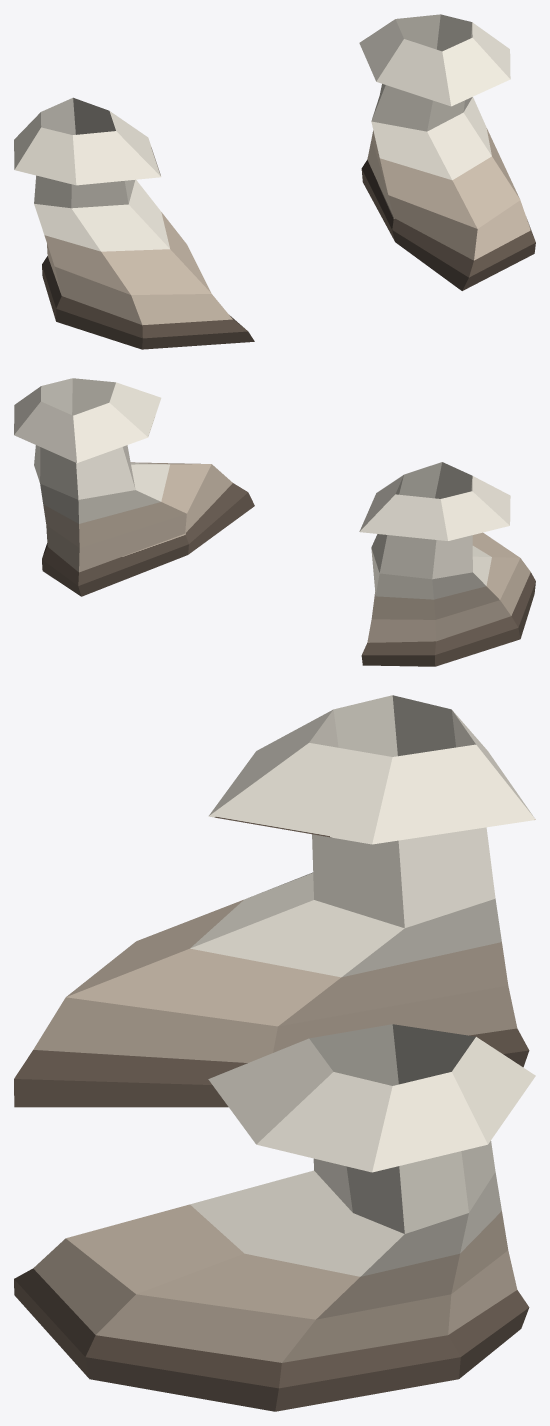
File: ShoesWithFSocks.fbx
3 views of the same model, one above another, from view 1: azimuth 30°, elevation 25°; view 2: azimuth 150°, elevation 25°; view 3: azimuth 270°, elevation 25° (orthographic). The views are drawn at different scales.
Parts seen in each view (by area): view 1: ShoesWithFrillySocks; view 2: ShoesWithFrillySocks; view 3: ShoesWithFrillySocks.
Boxes of the visible parts, x1,y1,x2,y2 form: ShoesWithFrillySocks: [14, 14, 535, 349]; ShoesWithFrillySocks: [14, 378, 535, 666]; ShoesWithFrillySocks: [14, 695, 535, 1411].
Size of the model in its own units: 112 by 36.24 by 55.19.
